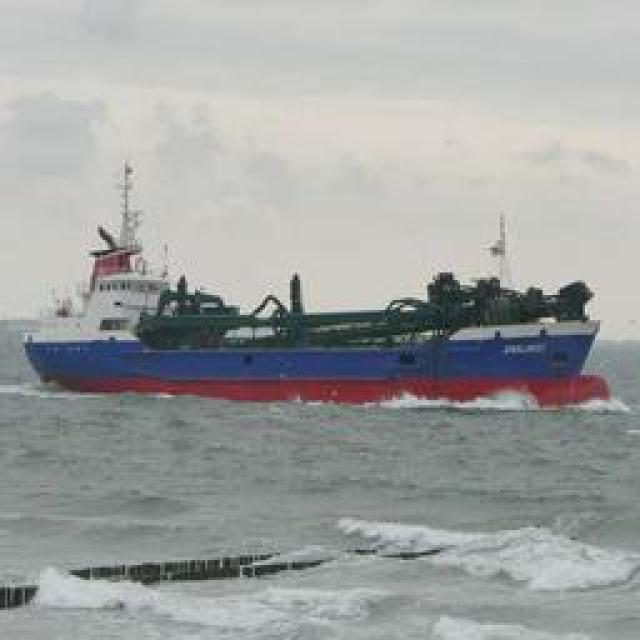Ship: (15, 225, 620, 405)
